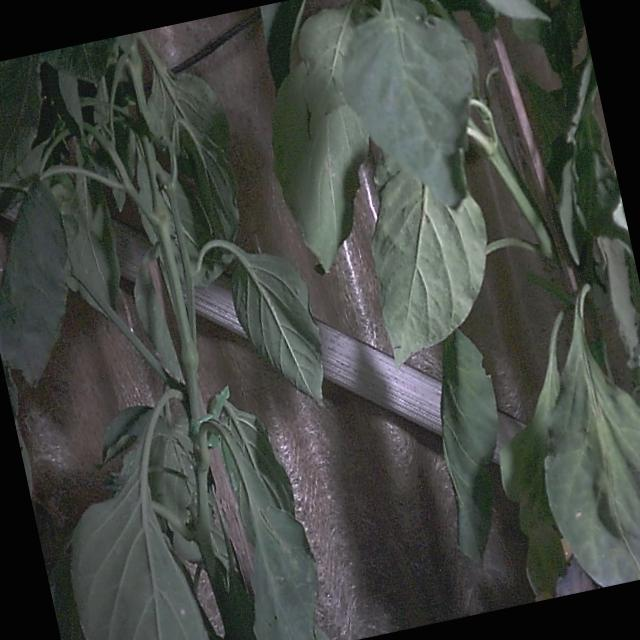Leaf: (545, 286, 639, 586), (344, 0, 474, 206), (71, 450, 207, 639), (372, 171, 487, 364), (232, 251, 323, 402), (0, 185, 67, 383), (441, 331, 497, 560), (0, 54, 41, 179)
